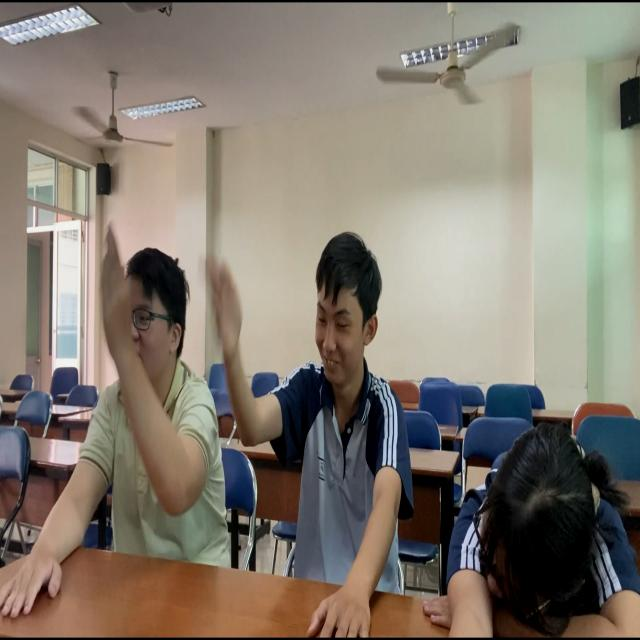raise_hand: (202, 229, 411, 640)
sleep: (435, 417, 640, 640)
